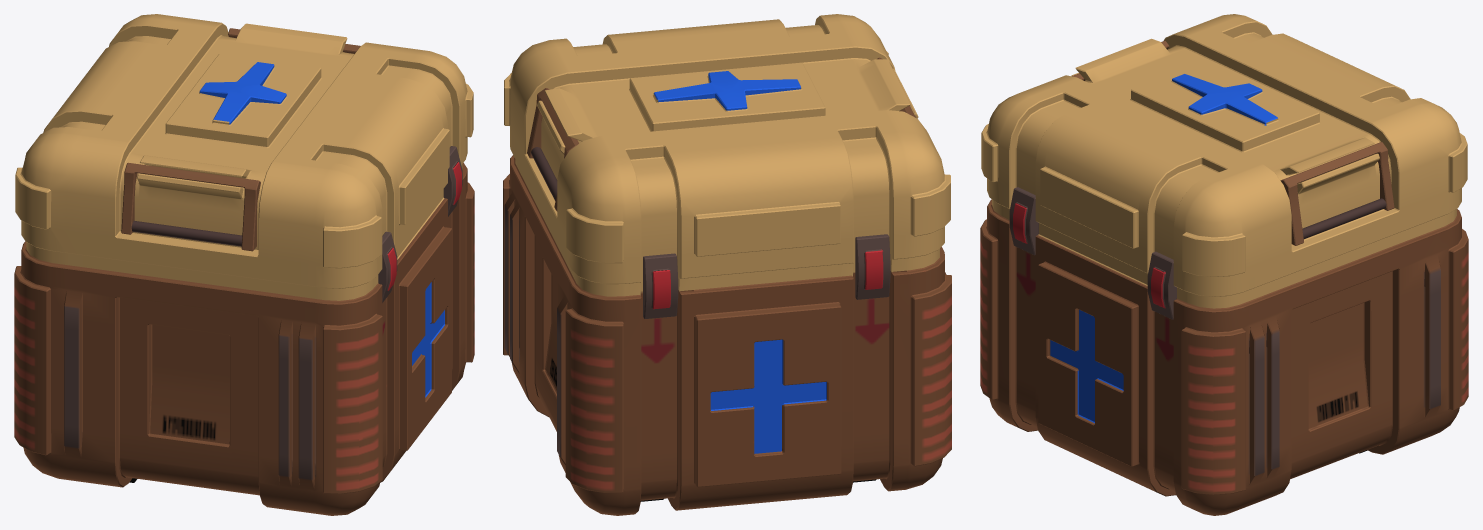
The picture shows the model from 3 angles, left to right: view 1: azimuth 30°, elevation 25°; view 2: azimuth 150°, elevation 25°; view 3: azimuth 270°, elevation 25°; orthographic projection. The views are drawn at different scales.
Parts seen in each view (by area): view 1: Box.001; view 2: Box.001; view 3: Box.001.
Boxes of the visible parts, x1,y1,x2,y2 form: Box.001: [14, 14, 474, 515]; Box.001: [503, 14, 951, 515]; Box.001: [980, 14, 1468, 515].
Bounding box in the file's own units: 38.92 × 30 × 38.9.
1 material, 1 textured.
